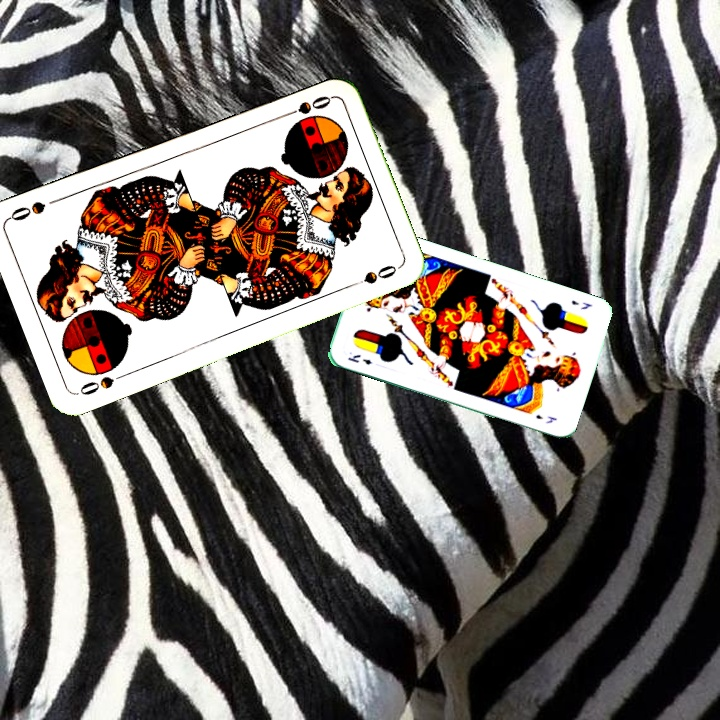EK: (344, 350, 374, 367), (567, 296, 595, 312)
SO: (74, 368, 131, 398), (277, 91, 334, 120)
